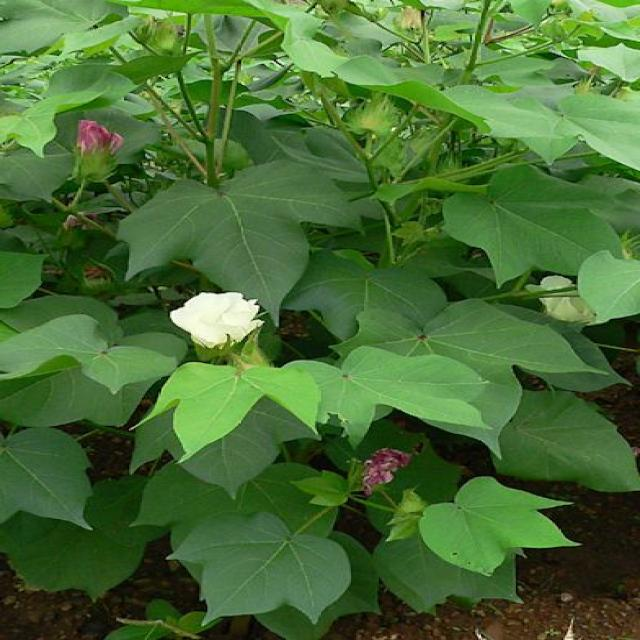Healthy Leaf: (6, 5, 601, 640)
